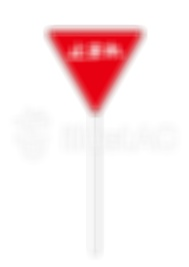Regulatory_sign_triangle: (48, 25, 148, 103)
